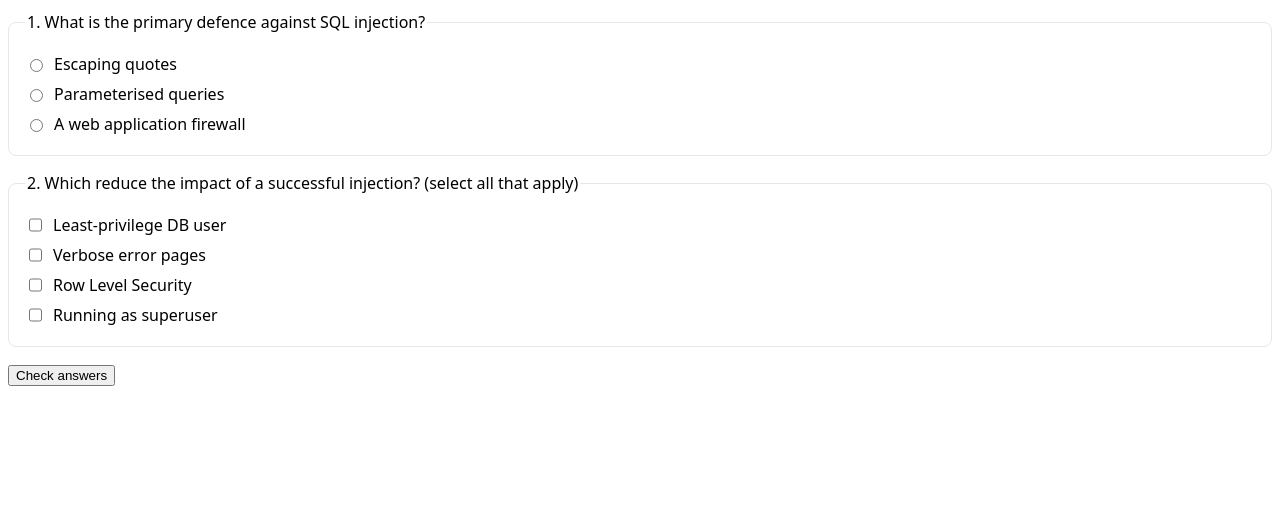
Test: QuizView › warns about unanswered questions, then grades with partial credit
Click the radio button labelled "Parameterised queries".
click(36, 96)  # box [30,86,43,105]
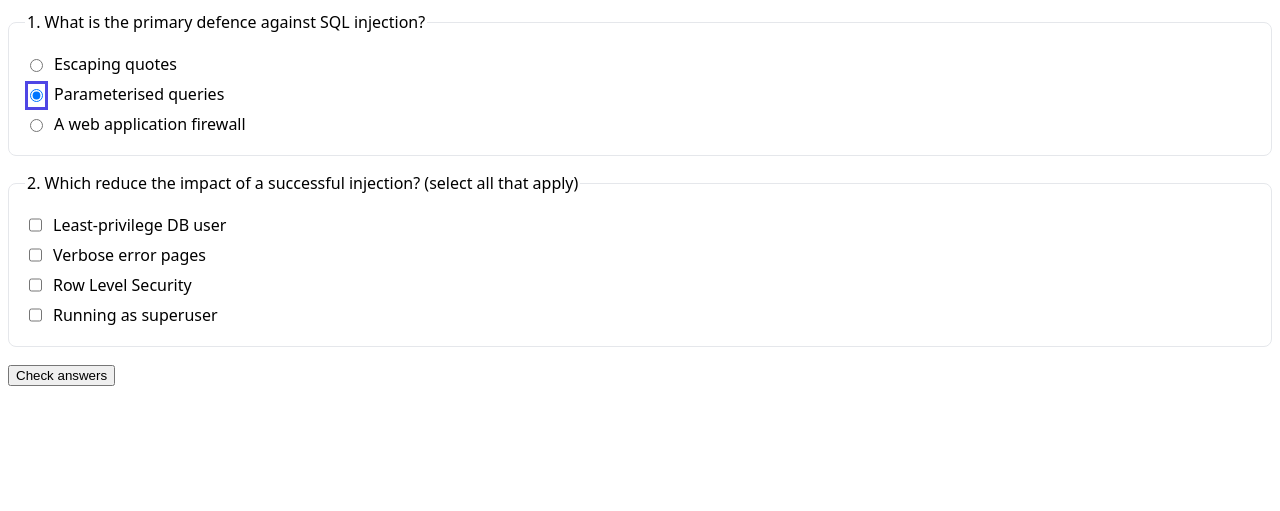
Click the button "Check answers".
click(62, 376)  # box [8,365,115,386]
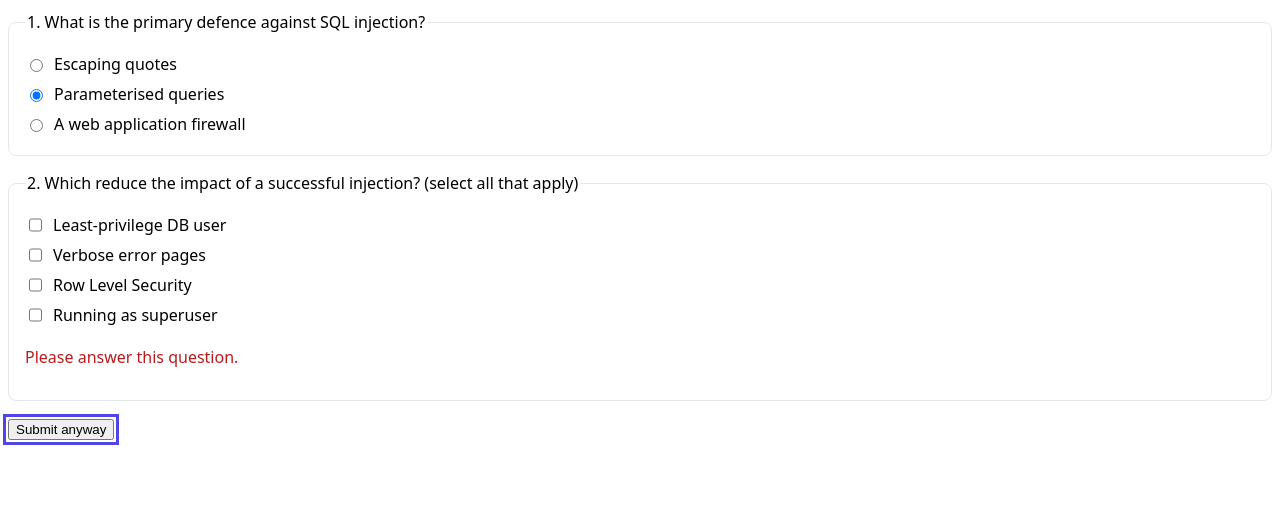
Result: the text "Please answer this question." is shown at [25,346,238,368]
Click the checkbox labelled "Least-privilege DB user".
click(36, 225)  # box [29,217,42,233]
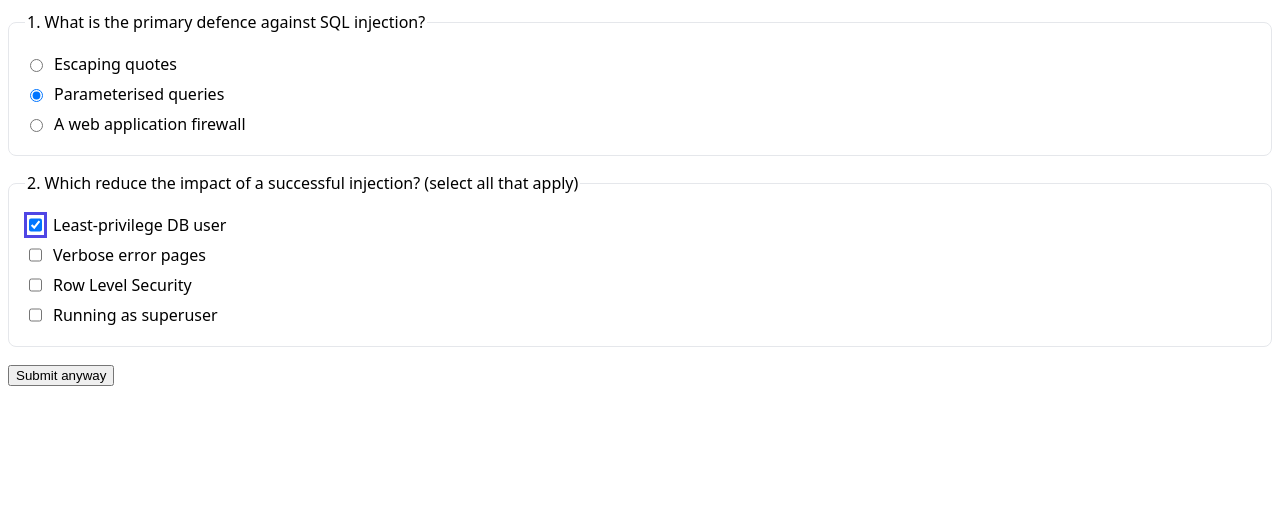
Click the button "Submit anyway".
click(61, 376)  # box [8,365,114,386]
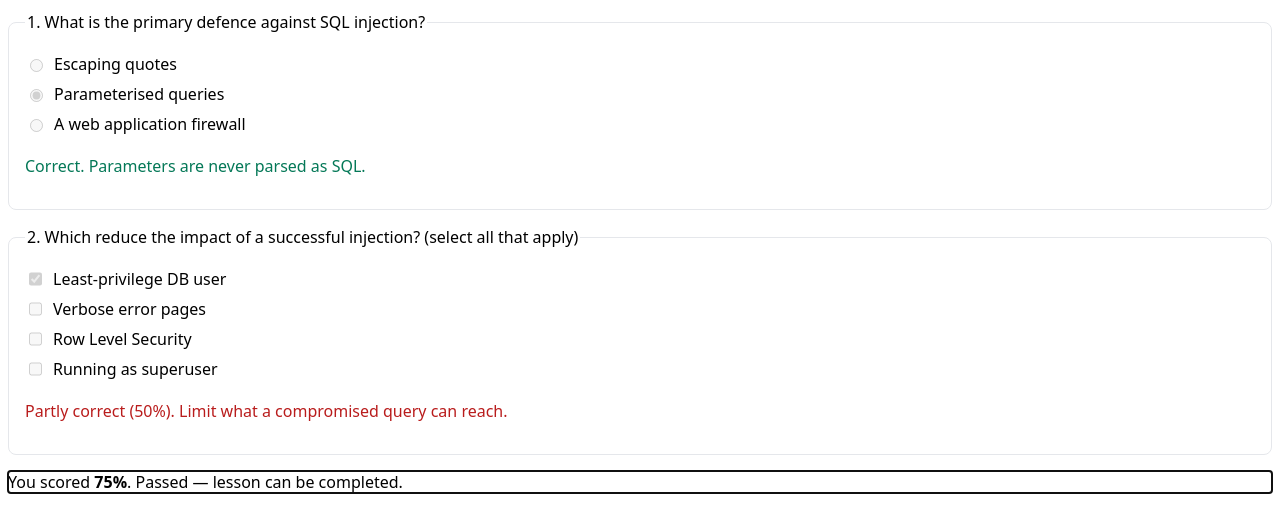
Result: the text "Partly correct (50%)" is shown at [25,400,175,422]
Result: the text "75%" is shown at [94,471,127,493]
